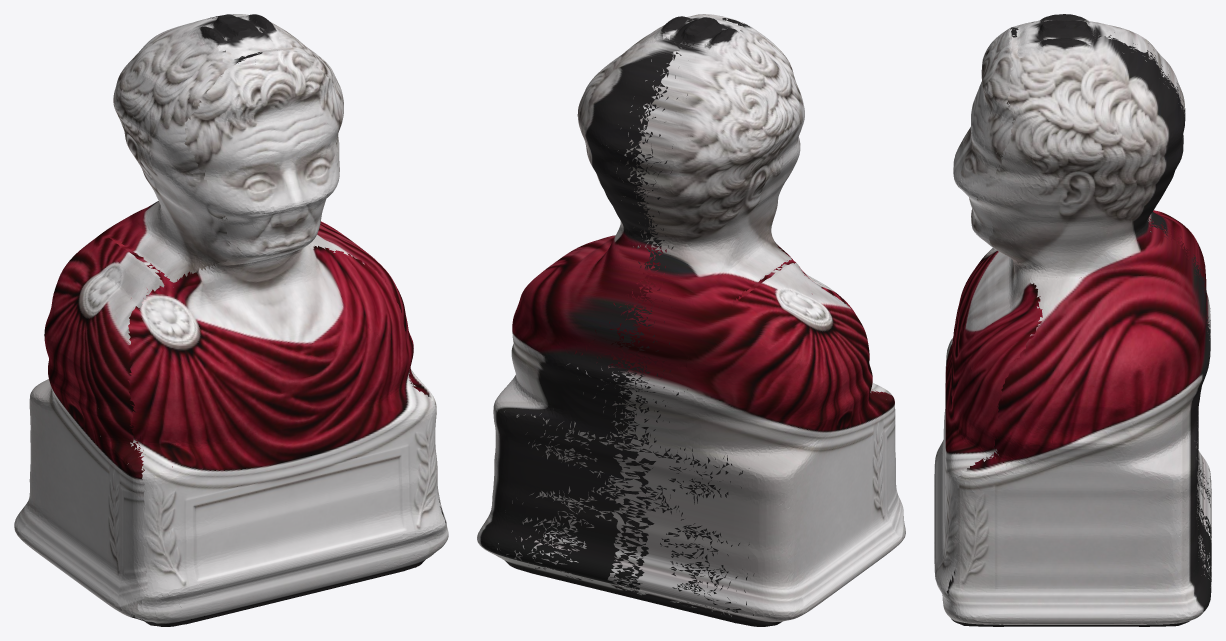
File: bust.glb
3 views of the same model, side by side, from view 1: azimuth 30°, elevation 25°; view 2: azimuth 150°, elevation 25°; view 3: azimuth 270°, elevation 25° (orthographic).
Visible parts, largest first — view 1: geometry_0; view 2: geometry_0; view 3: geometry_0.
Boxes of the visible parts, x1,y1,x2,y2 form: geometry_0: [14, 14, 448, 626]; geometry_0: [477, 14, 905, 626]; geometry_0: [934, 14, 1211, 626].
Bounding box in the file's own units: 1.31 × 2.04 × 0.9613.
1 material, 1 textured.
